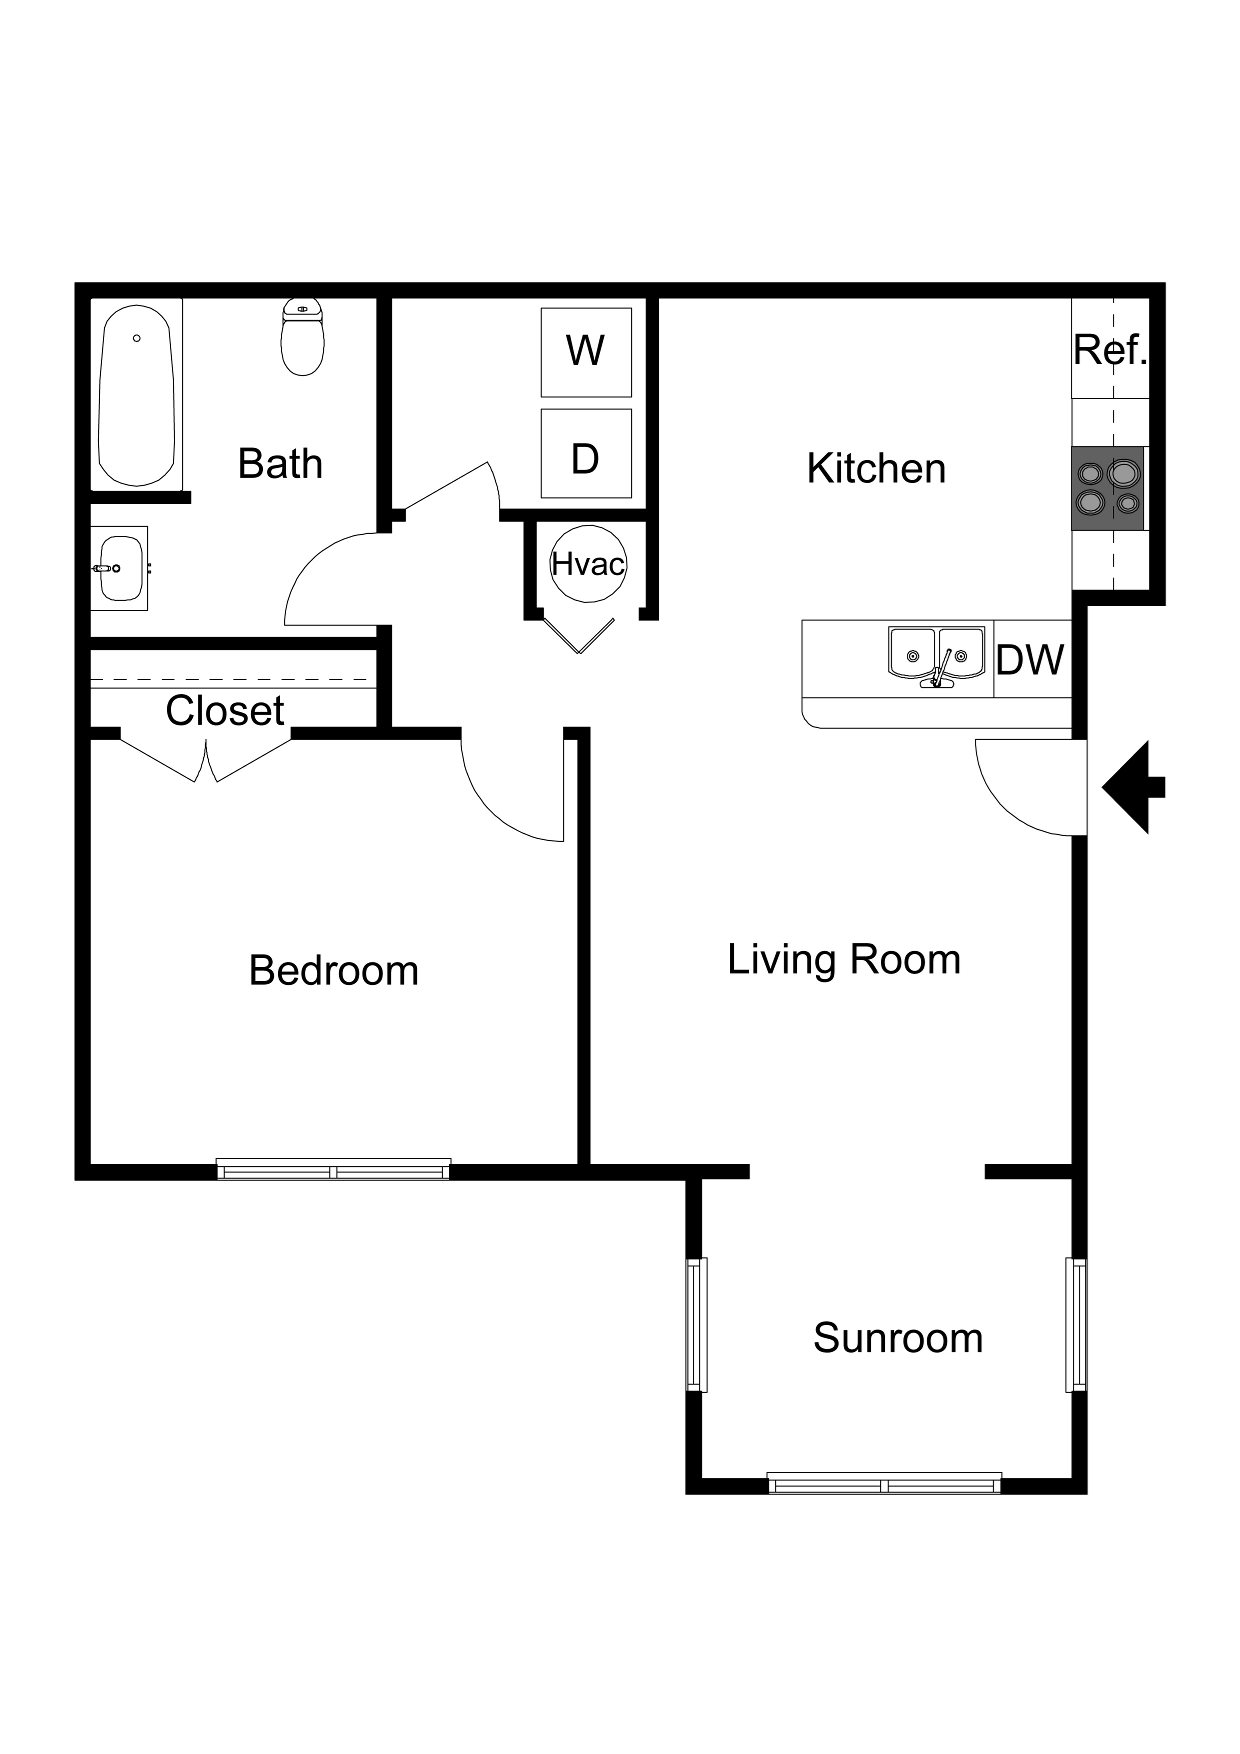door: (454, 747, 568, 845), (972, 735, 1068, 845), (276, 527, 370, 628), (123, 733, 287, 788), (403, 458, 515, 506), (544, 615, 620, 662)
